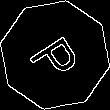P_NE: (24, 26, 86, 84)
